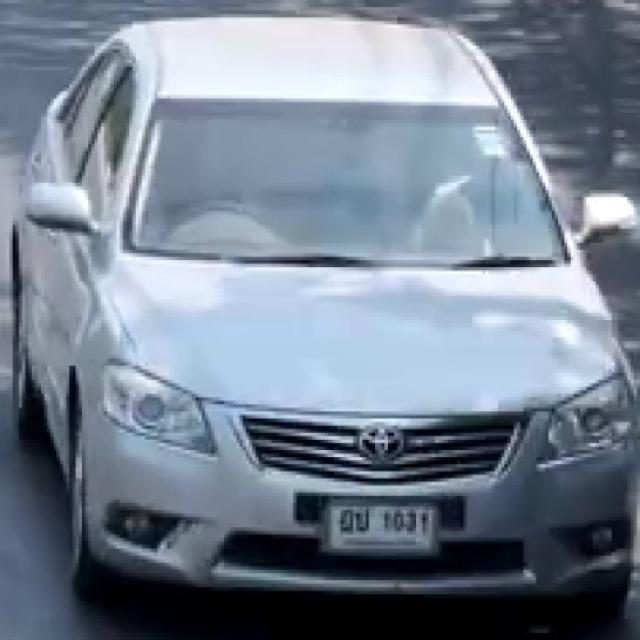plate: (324, 496, 438, 551)
